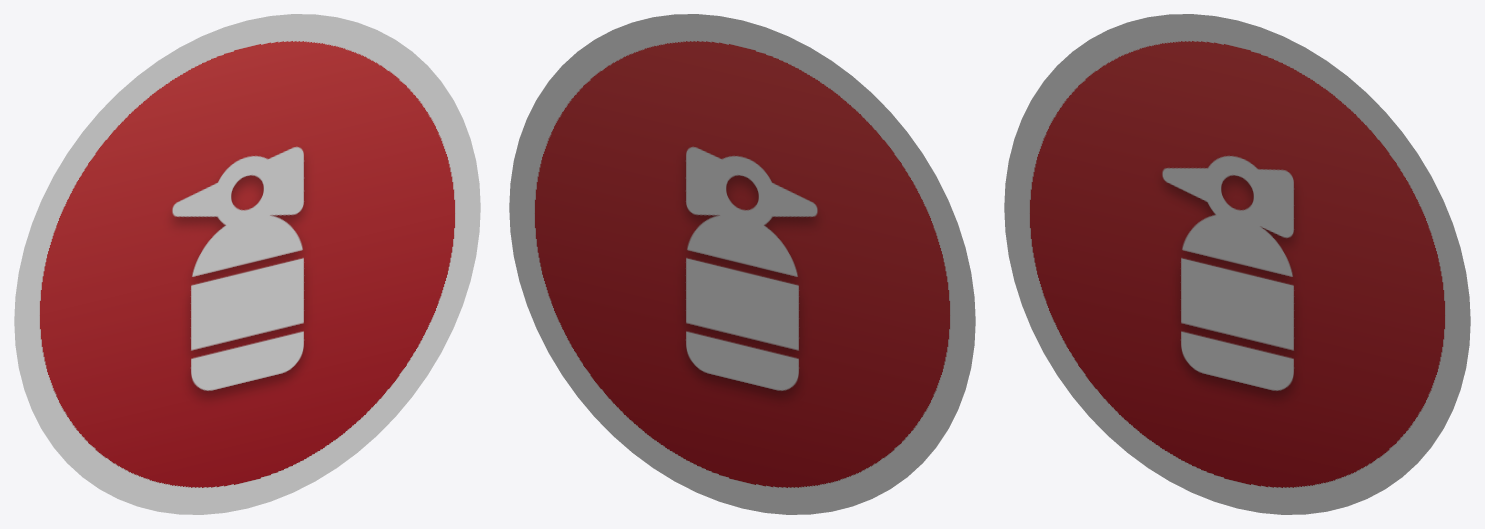
Rendered from fire_extinguisher.obj.
3 views of the same model, side by side, from view 1: azimuth 30°, elevation 25°; view 2: azimuth 150°, elevation 25°; view 3: azimuth 330°, elevation 25° (orthographic).
Parts seen in each view (by area): view 1: badge; view 2: badge; view 3: badge.
Part boxes in pixels (bbox=[...]): badge: bbox=[14, 14, 480, 514]; badge: bbox=[509, 14, 975, 514]; badge: bbox=[1004, 14, 1470, 514].
Bounding box in the file's own units: 1 × 1 × 0.
Materials: 1 (1 with a texture image).
